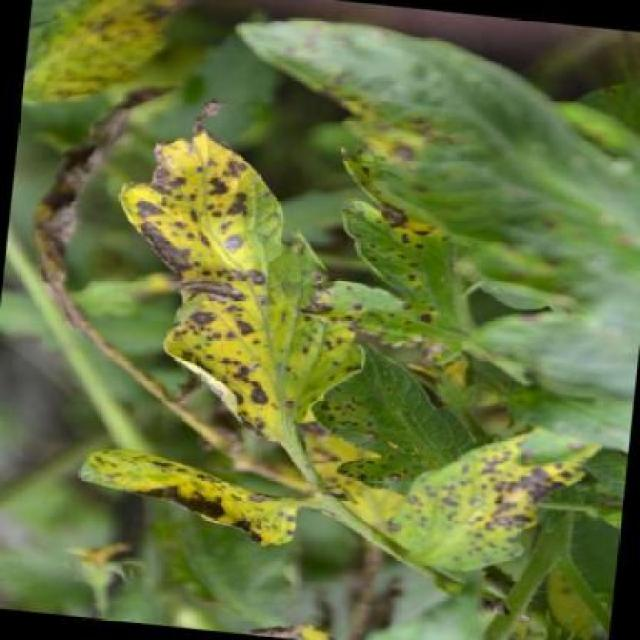Septoria leaf spot: (90, 105, 376, 463), (337, 401, 629, 597), (52, 423, 322, 569)
